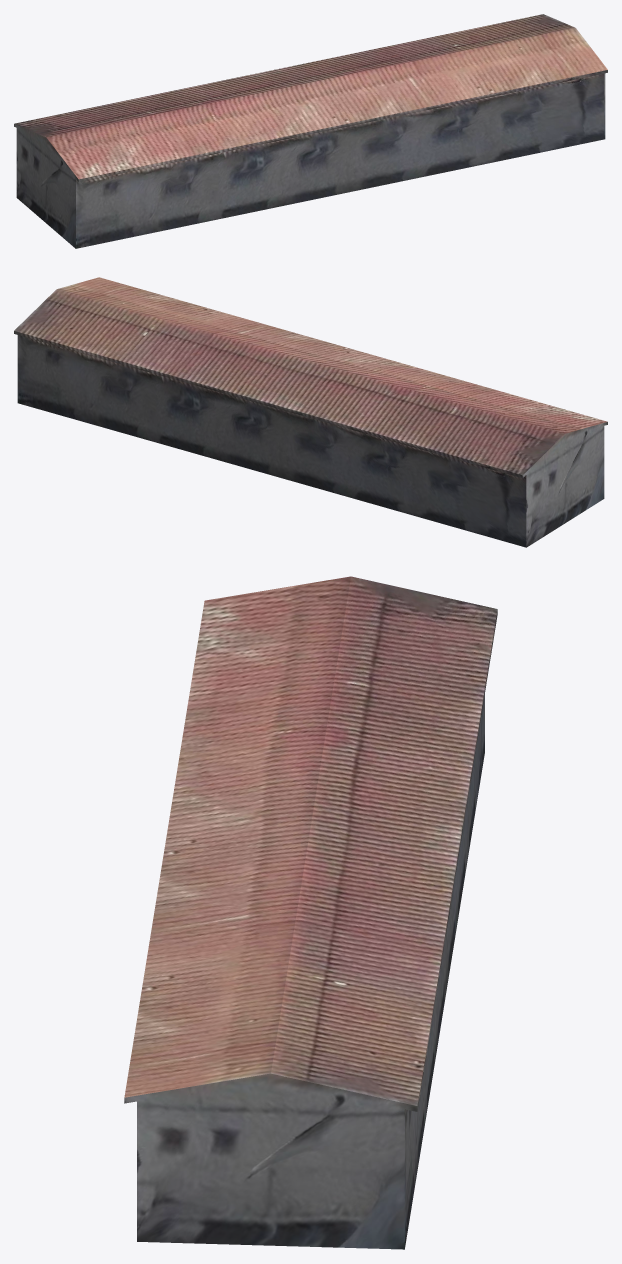
Rendered from Techni_zrif2.dae.
The picture shows the model from 3 angles, top to bottom: view 1: azimuth 30°, elevation 25°; view 2: azimuth 150°, elevation 25°; view 3: azimuth 270°, elevation 25°; orthographic projection. The views are drawn at different scales.
Visible parts, largest first — view 1: group_0 (×5); view 2: group_0 (×5); view 3: group_0 (×4).
Boxes of the visible parts, left/top/right/bottom form: group_0 (×5): left=14, top=14, right=607, bottom=248; group_0 (×5): left=14, top=277, right=607, bottom=547; group_0 (×4): left=124, top=576, right=497, bottom=1249.
Bounding box in the file's own units: 1129 × 352 × 179.
6 materials, 5 textured.
